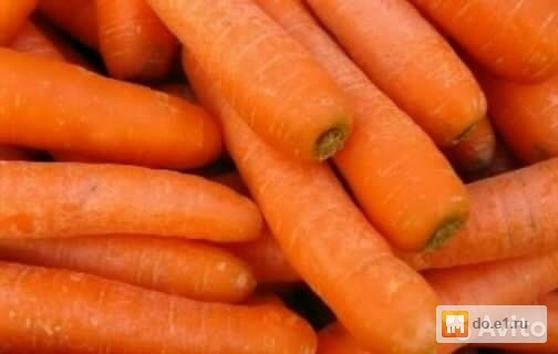carrot: (1, 46, 228, 176), (3, 262, 320, 353), (2, 155, 265, 247)
